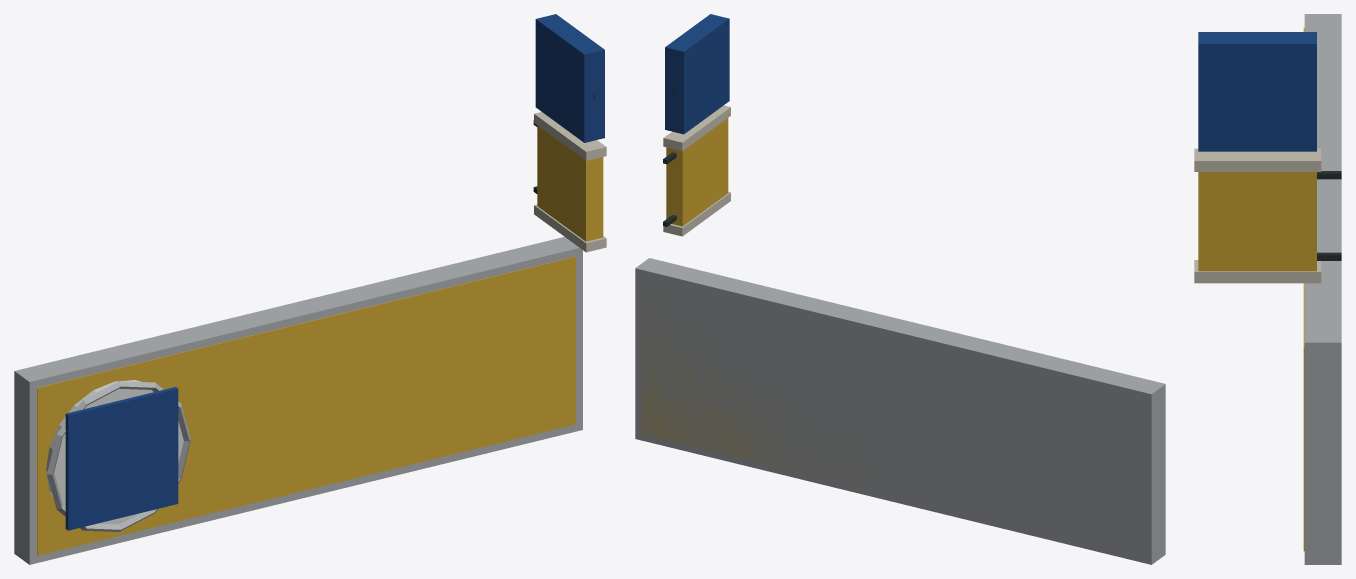
The model's file is bang_gui_xe_40.glb.
3 views of the same model, side by side, from view 1: azimuth 30°, elevation 25°; view 2: azimuth 150°, elevation 25°; view 3: azimuth 270°, elevation 25° (orthographic). The views are drawn at different scales.
Parts seen in each view (by area): view 1: bang_gui_xe_40; view 2: bang_gui_xe_40; view 3: bang_gui_xe_40.
Boxes of the visible parts, x1,y1,x2,y2 form: bang_gui_xe_40: (14,14,606,564); bang_gui_xe_40: (635,14,1165,564); bang_gui_xe_40: (1194,14,1341,564).
Size of the model in its own units: 3.8 by 2.74 by 0.72.
